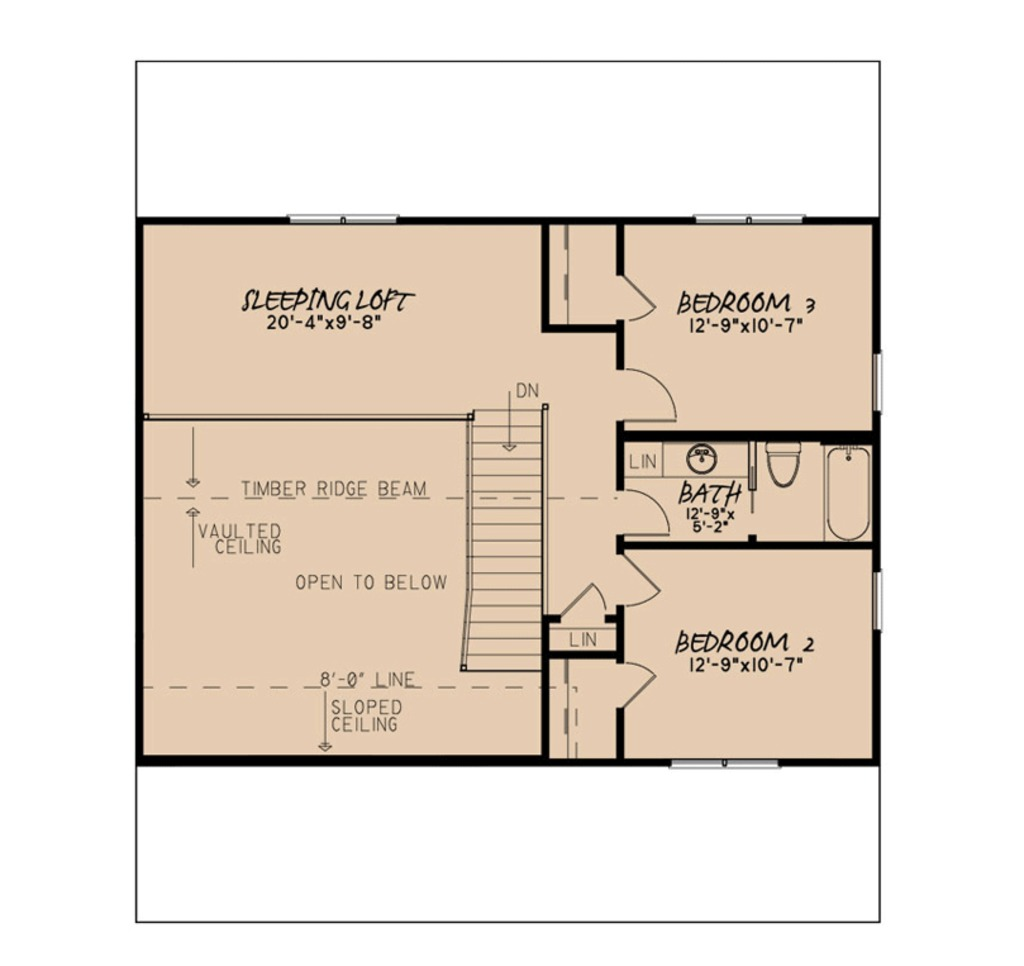door: (618, 368, 675, 427), (612, 487, 671, 542), (618, 552, 665, 615), (615, 659, 655, 712), (558, 581, 608, 622), (620, 275, 656, 320)
large_sink: (765, 442, 808, 506)
small_sink: (671, 442, 738, 477)
stairs: (453, 402, 546, 683)
tub: (825, 443, 870, 546)
window: (690, 208, 802, 228), (288, 210, 396, 229), (871, 355, 883, 424)
